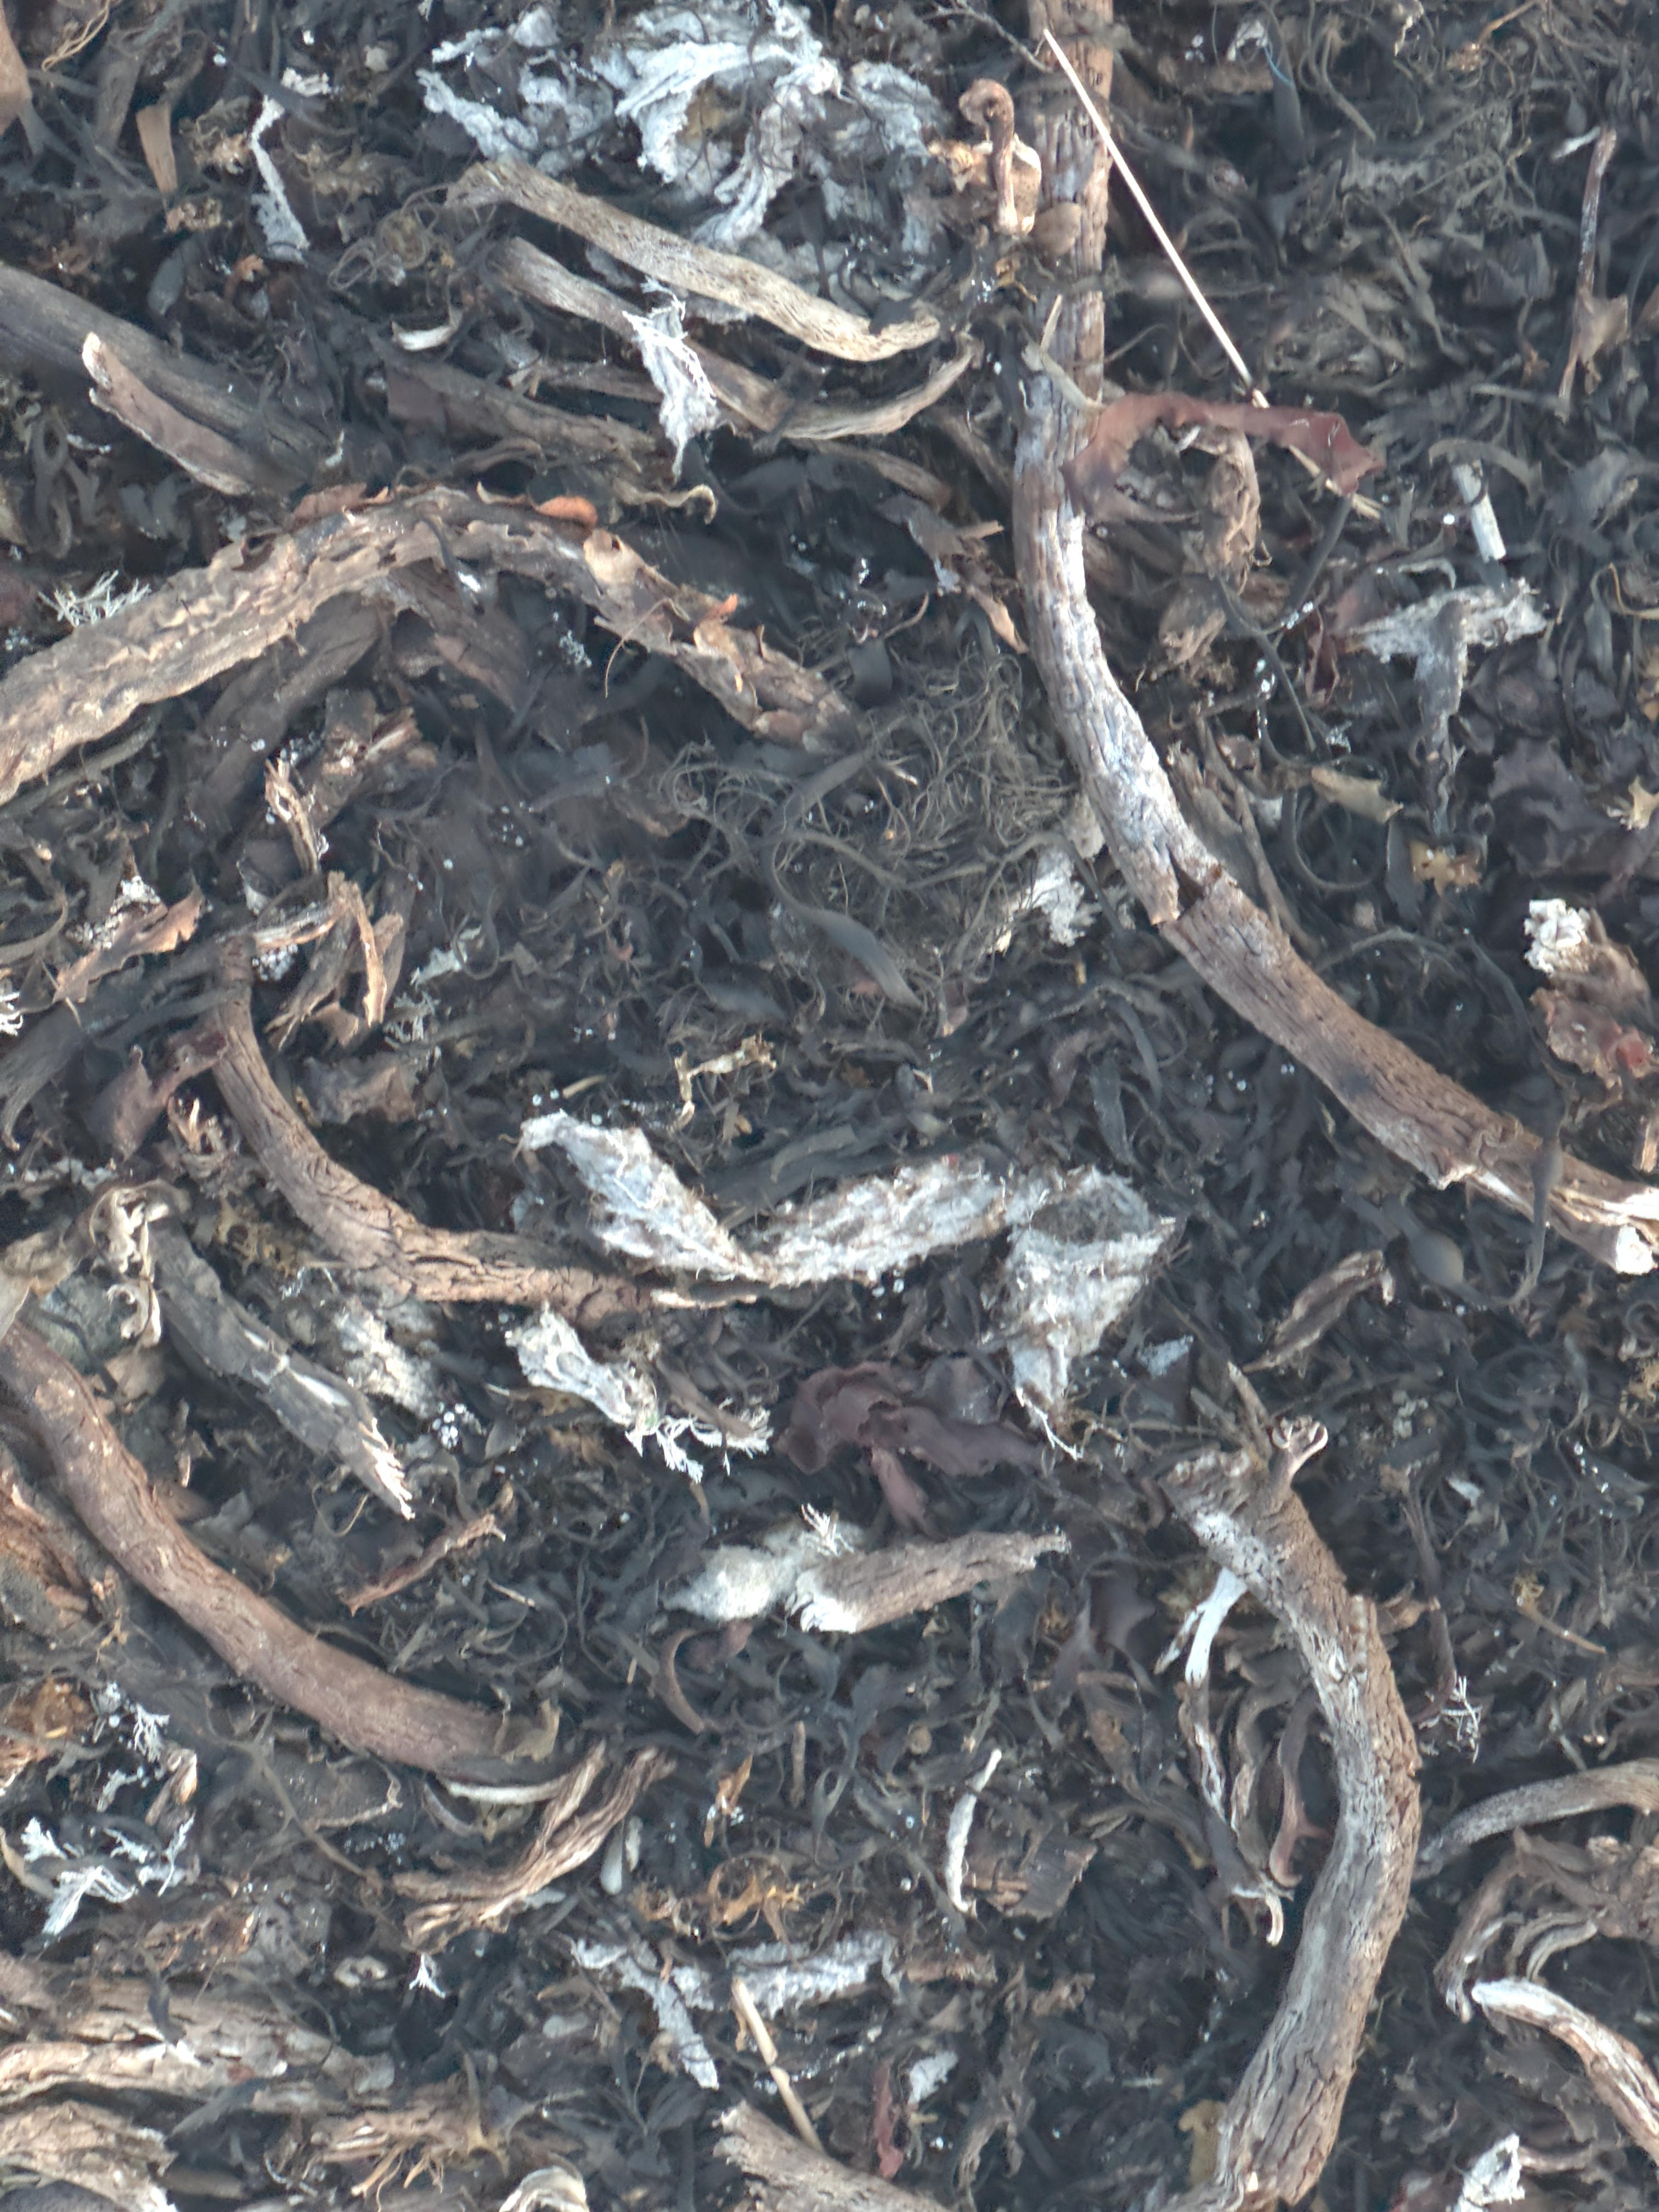trash: (523, 1115, 1180, 1421), (587, 0, 946, 303), (1356, 583, 1547, 744), (423, 9, 570, 172), (505, 1310, 660, 1447), (631, 303, 721, 475)
